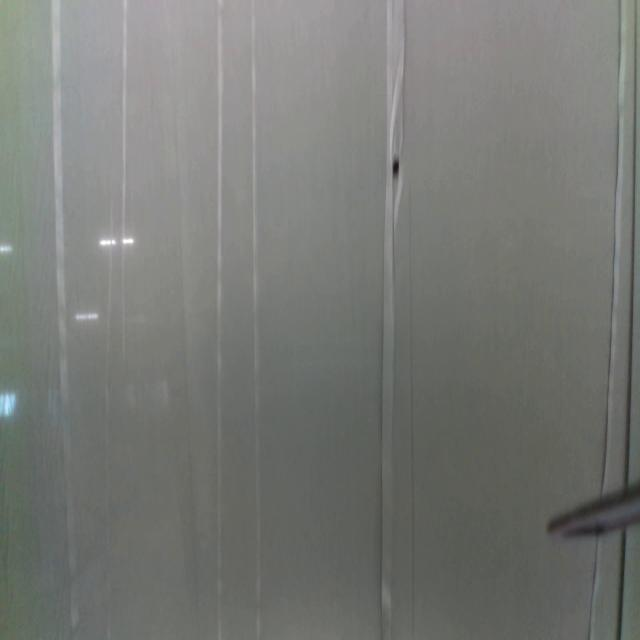crease: (51, 0, 79, 640), (377, 0, 405, 639), (597, 0, 622, 491), (251, 0, 263, 639), (625, 0, 638, 486), (216, 1, 224, 640), (406, 190, 417, 640), (106, 196, 114, 640), (120, 0, 128, 359), (586, 536, 600, 640), (616, 528, 628, 639)
hole: (392, 155, 401, 179)
